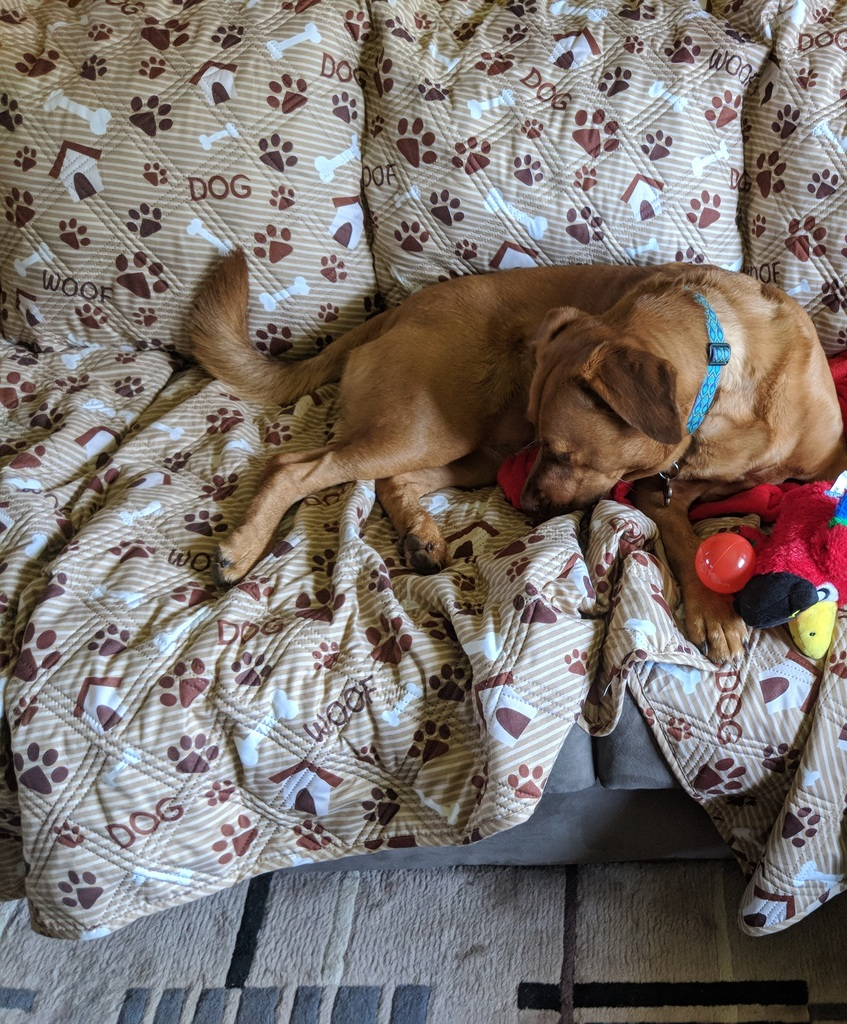ball: (690, 531, 759, 600)
